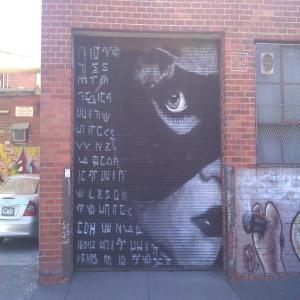Vehicle-registration-plate: (2, 206, 15, 215)
